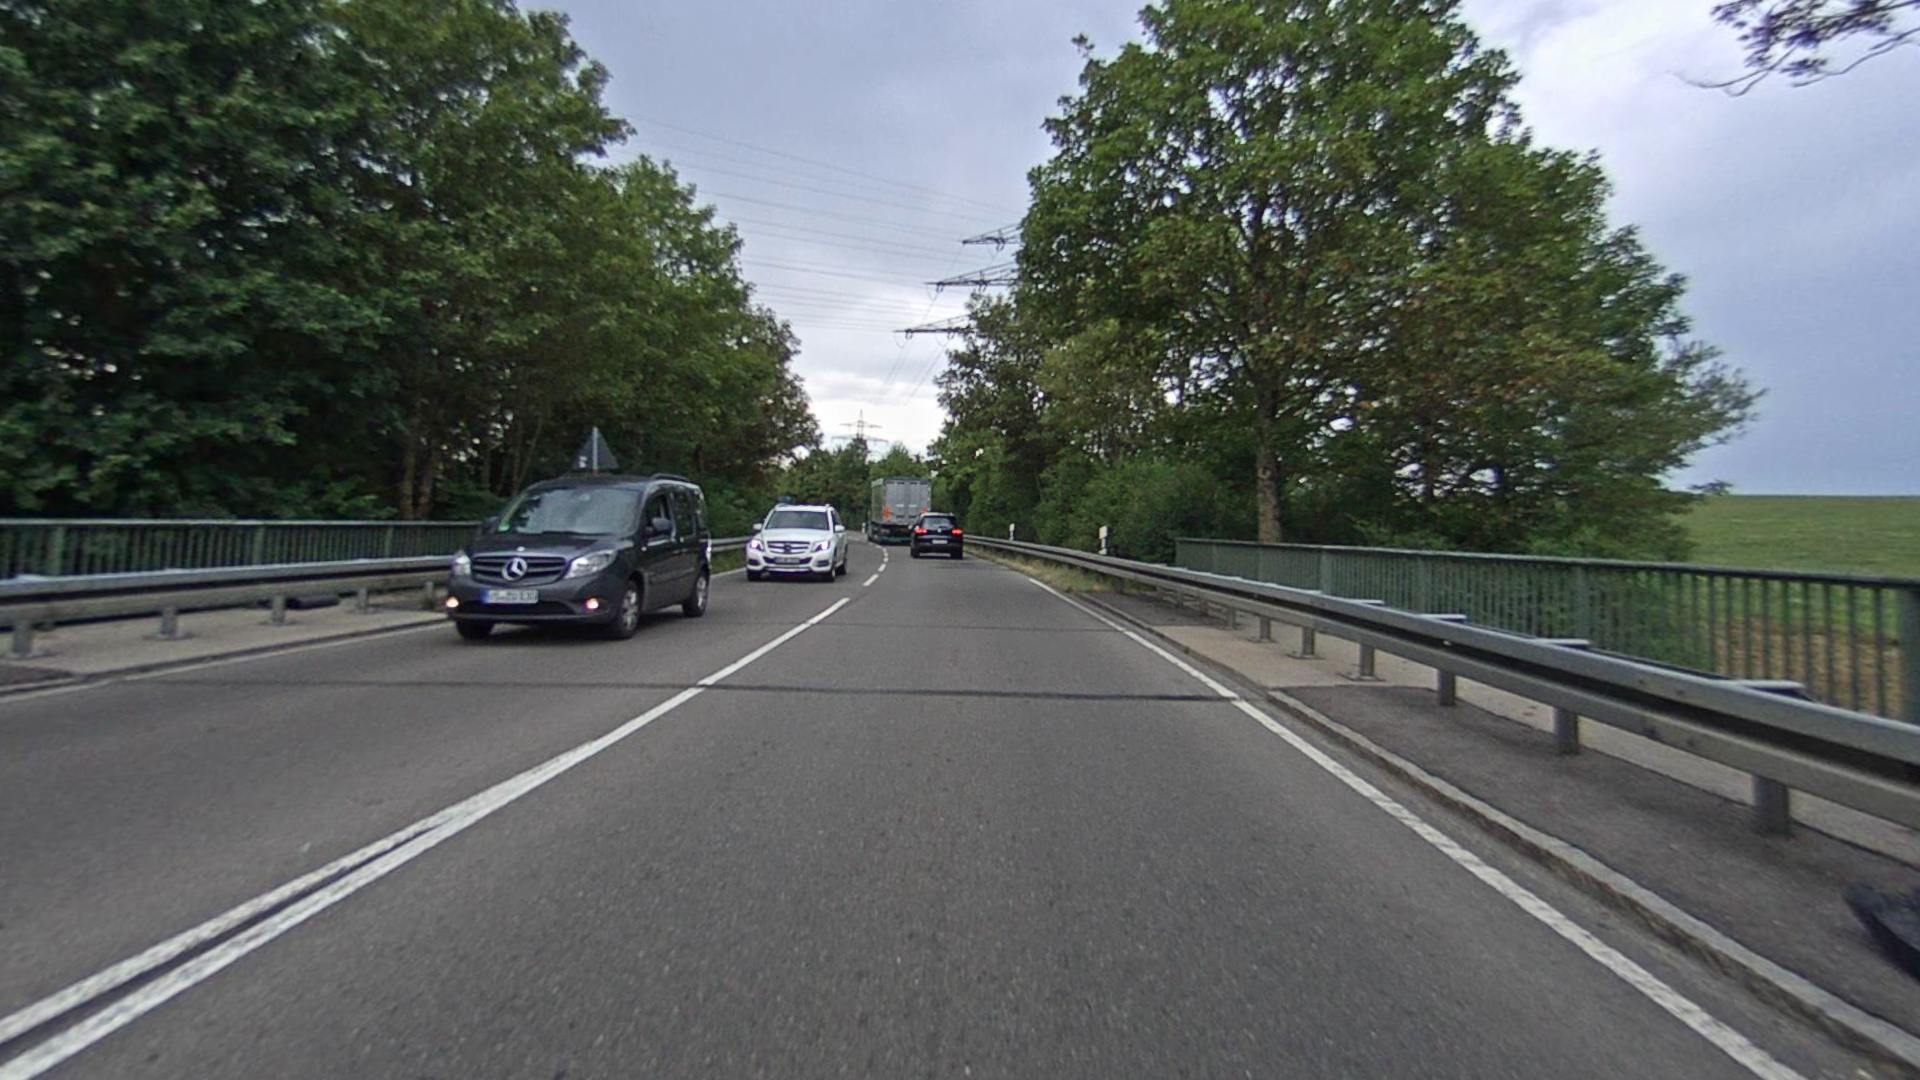car: (439, 473, 715, 642), (742, 501, 851, 584)
